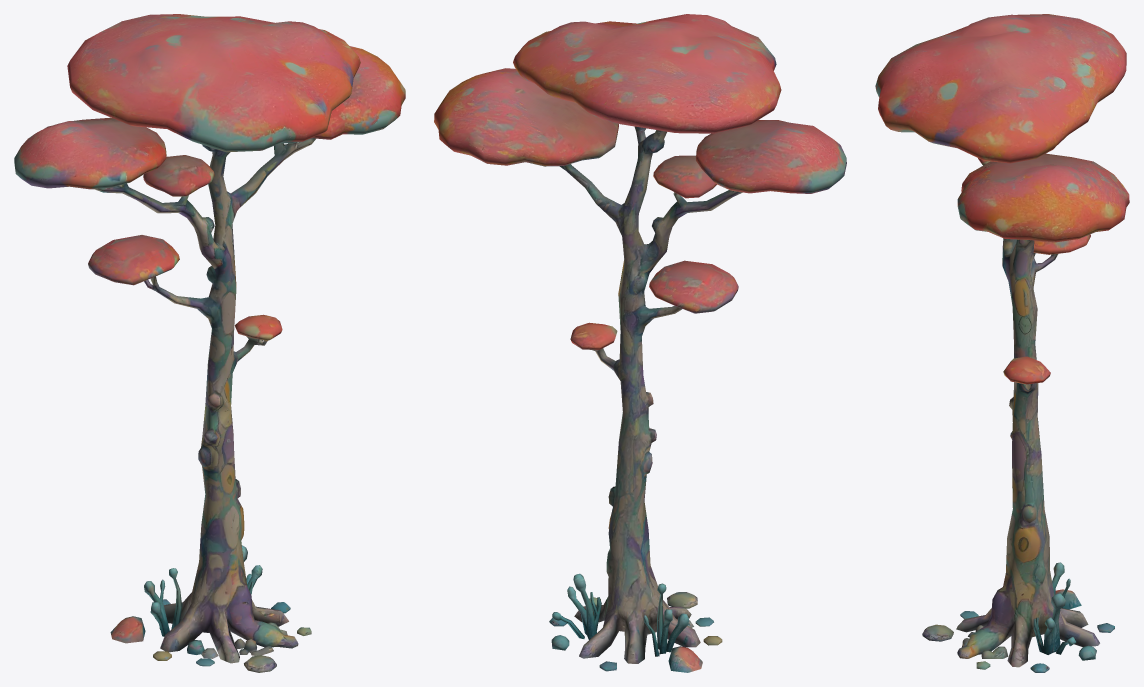
The model's file is alien_tree_04.glb.
The picture shows the model from 3 angles, left to right: view 1: azimuth 30°, elevation 25°; view 2: azimuth 150°, elevation 25°; view 3: azimuth 270°, elevation 25°; orthographic projection. The views are drawn at different scales.
Parts seen in each view (by area): view 1: tripo_node_471fee85-08a5-4172-a444-3d72647f3117; view 2: tripo_node_471fee85-08a5-4172-a444-3d72647f3117; view 3: tripo_node_471fee85-08a5-4172-a444-3d72647f3117.
Part boxes in pixels (bbox=[...]): tripo_node_471fee85-08a5-4172-a444-3d72647f3117: bbox=[14, 14, 405, 672]; tripo_node_471fee85-08a5-4172-a444-3d72647f3117: bbox=[434, 14, 846, 672]; tripo_node_471fee85-08a5-4172-a444-3d72647f3117: bbox=[875, 14, 1129, 672].
Size of the model in its own units: 0.6587 by 0.9995 by 0.3902.
Materials: 1 (1 with a texture image).
